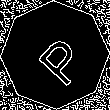P_NW: (24, 24, 86, 86)
